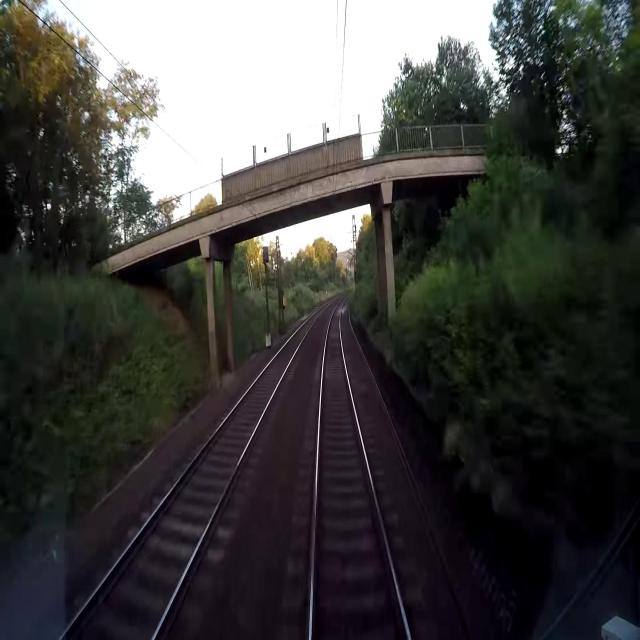rail-track: (64, 309, 322, 639), (313, 299, 406, 639)
